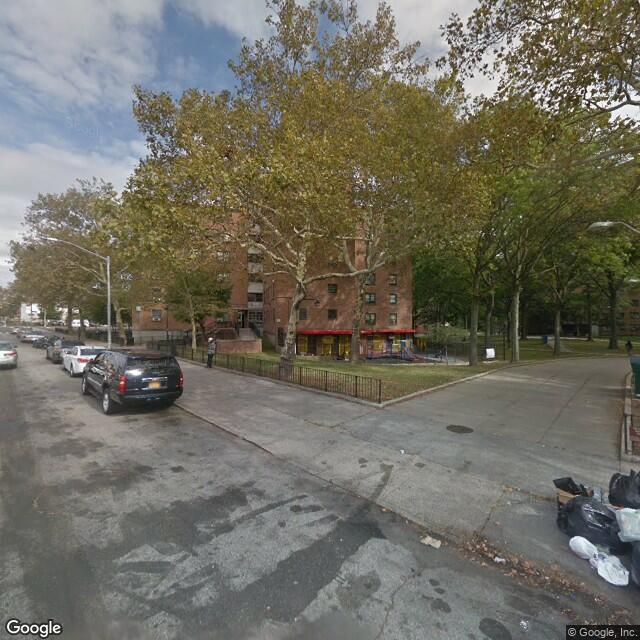litter: (418, 533, 444, 552), (487, 553, 506, 566), (534, 569, 551, 582), (376, 504, 388, 514), (398, 446, 407, 456)
